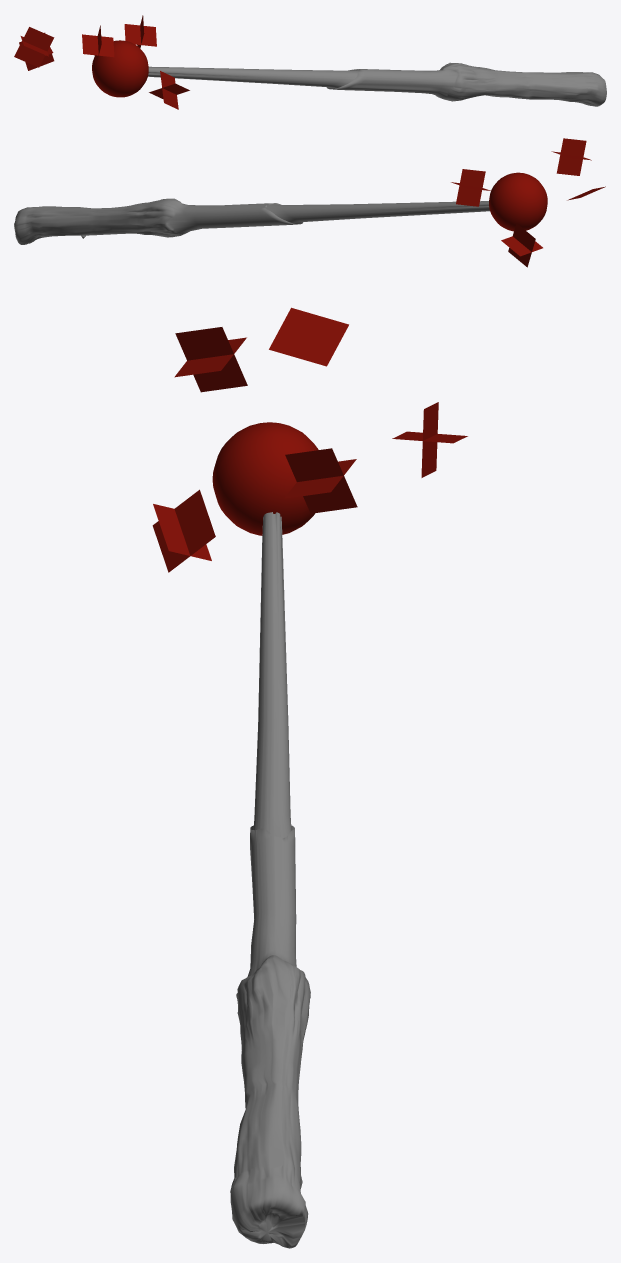
The picture shows the model from 3 angles, top to bottom: view 1: azimuth 30°, elevation 25°; view 2: azimuth 150°, elevation 25°; view 3: azimuth 270°, elevation 25°; orthographic projection. The views are drawn at different scales.
Visible parts, largest first — view 1: polySurface100 (×2); view 2: polySurface100 (×2); view 3: polySurface100 (×2).
Part boxes in pixels (box(x1,y1,x2,y2)): polySurface100 (×2): box(14, 15, 606, 109); polySurface100 (×2): box(14, 138, 605, 267); polySurface100 (×2): box(152, 307, 467, 1248).
Bounding box in the file's own units: 2.29 × 0.8141 × 0.5442.
